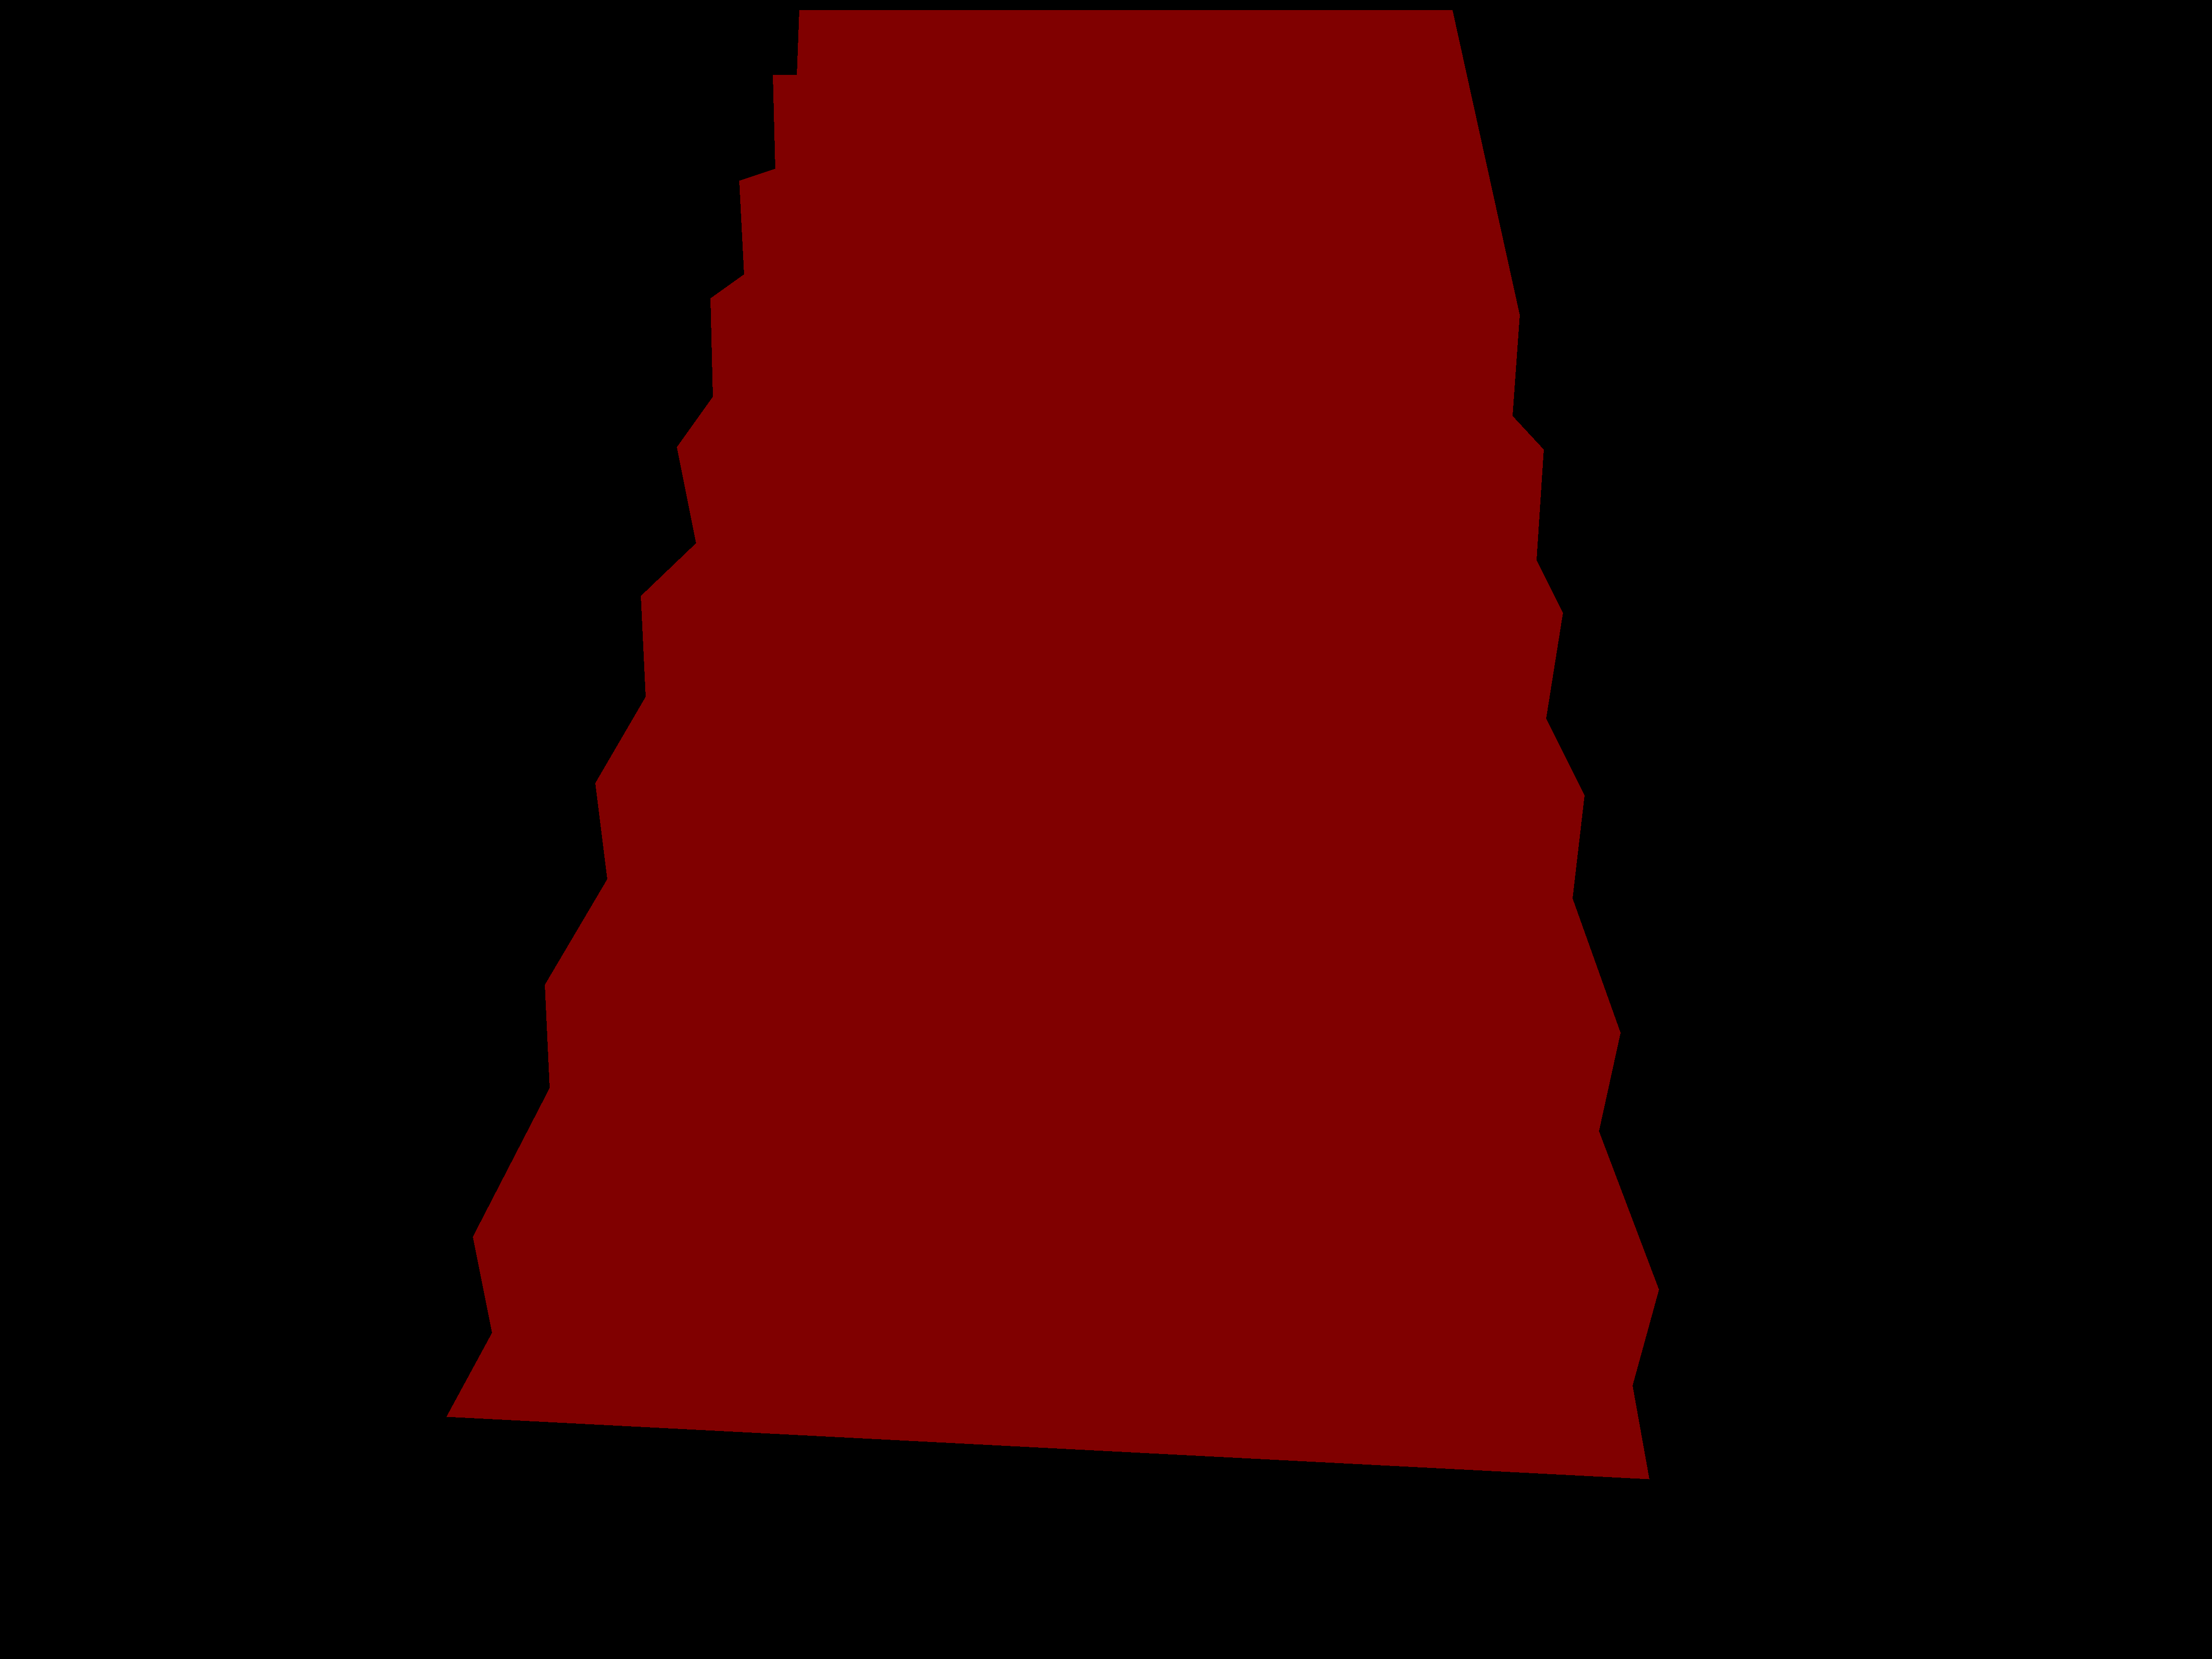stair: (446, 10, 1658, 1480)
